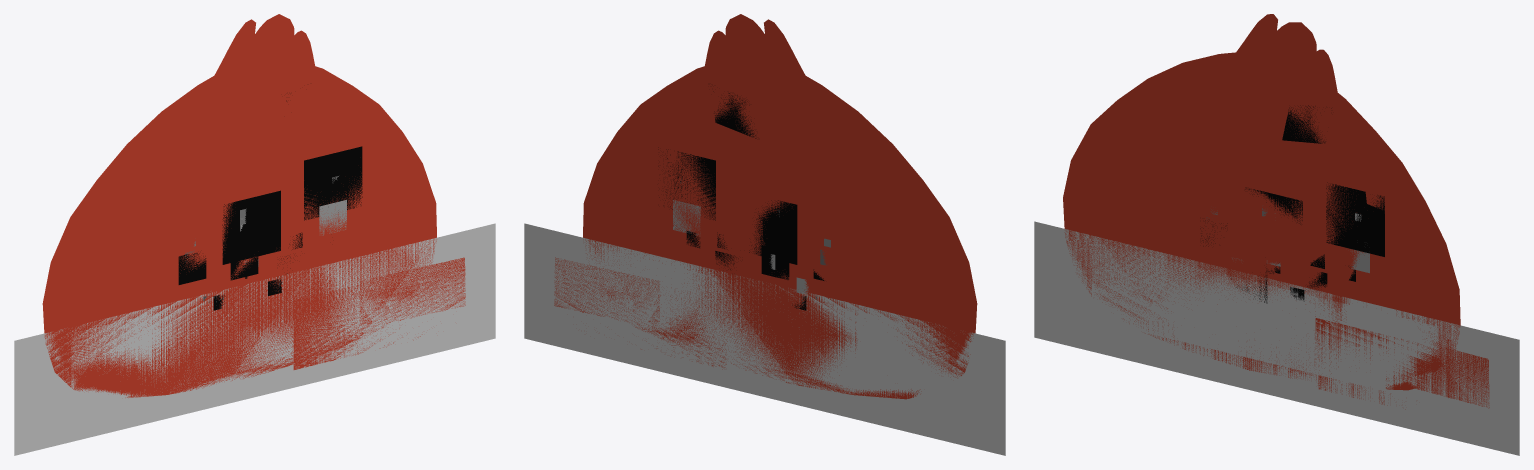
File: Skeleton Prefab Mesh _Eb_KingSlime_05_.glb
3 views of the same model, side by side, from view 1: azimuth 30°, elevation 25°; view 2: azimuth 150°, elevation 25°; view 3: azimuth 330°, elevation 25° (orthographic).
Visible parts, largest first — view 1: Skeleton Prefab Mesh "Eb_KingSlime_05"; view 2: Skeleton Prefab Mesh "Eb_KingSlime_05"; view 3: Skeleton Prefab Mesh "Eb_KingSlime_05".
Boxes of the visible parts, bbox=[...] form: Skeleton Prefab Mesh "Eb_KingSlime_05": bbox=[14, 14, 495, 455]; Skeleton Prefab Mesh "Eb_KingSlime_05": bbox=[524, 14, 1005, 455]; Skeleton Prefab Mesh "Eb_KingSlime_05": bbox=[1034, 14, 1519, 455].
Bounding box in the file's own units: 5.03 × 3.78 × 0.
